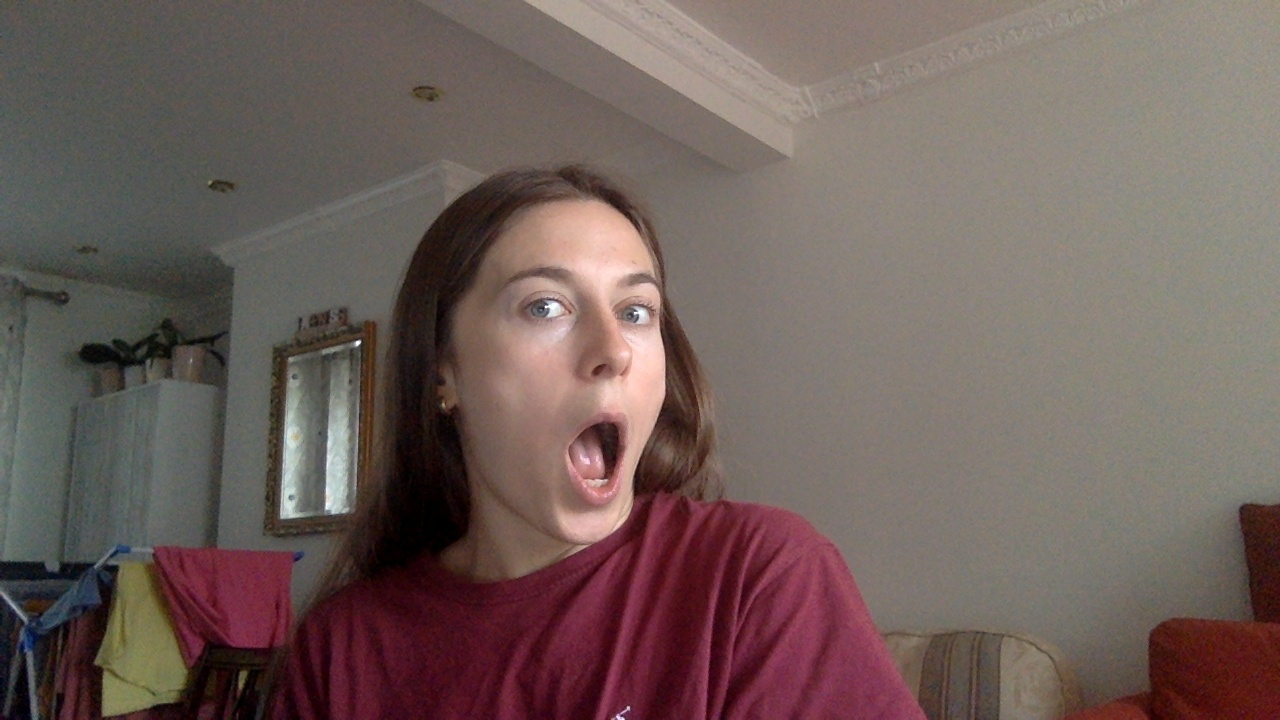surprise: (561, 405, 632, 505)
